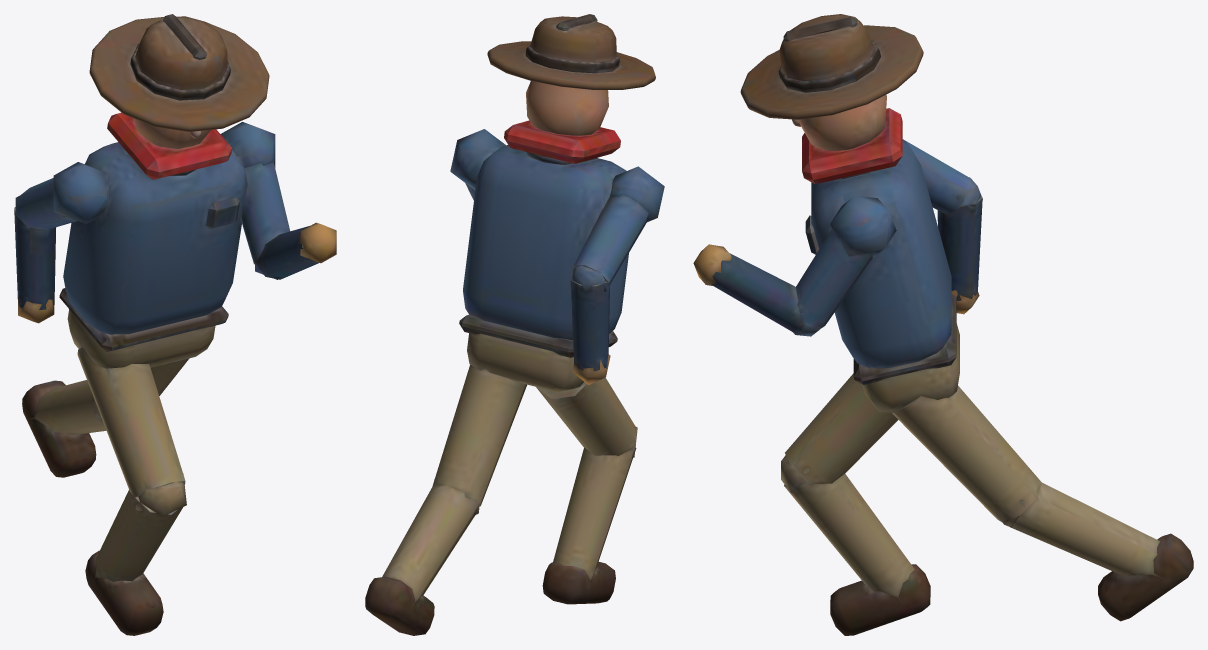
Rendered from farmer_run_1.glb.
3 views of the same model, side by side, from view 1: azimuth 30°, elevation 25°; view 2: azimuth 150°, elevation 25°; view 3: azimuth 270°, elevation 25° (orthographic). The views are drawn at different scales.
Parts seen in each view (by area): view 1: farmer_run_1; view 2: farmer_run_1; view 3: farmer_run_1.
Part boxes in pixels (<box>): farmer_run_1: <box>14,14,336,635</box>; farmer_run_1: <box>365,14,664,635</box>; farmer_run_1: <box>693,14,1193,635</box>.
Size of the model in its own units: 0.6899 by 1.84 by 1.33.
Materials: 1 (1 with a texture image).
